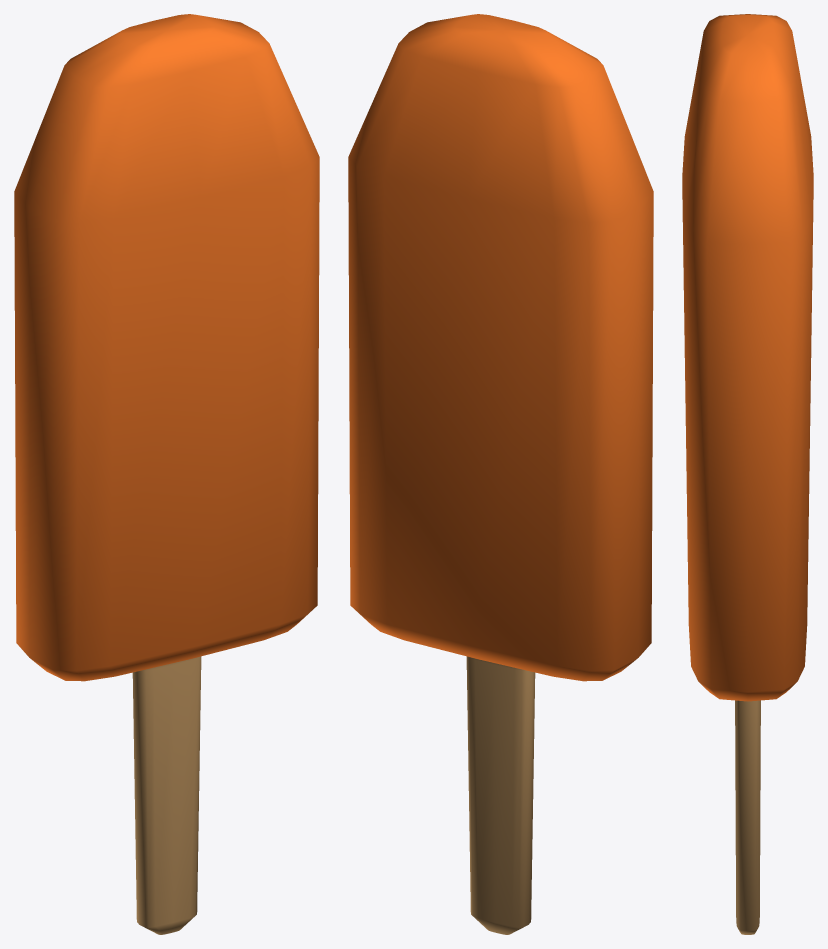
The model's file is NEW_RECOVERY_015_LOD2.glb.
3 renders of one model, left to right at view 1: azimuth 30°, elevation 25°; view 2: azimuth 150°, elevation 25°; view 3: azimuth 270°, elevation 25°, orthographic.
Visible parts, largest first — view 1: Popsicle; view 2: Popsicle; view 3: Popsicle.
Part boxes in pixels (x1=…): Popsicle: x1=14, y1=14, x2=319, y2=934; Popsicle: x1=348, y1=14, x2=653, y2=934; Popsicle: x1=682, y1=14, x2=813, y2=934.
Size of the model in its own units: 0.048 by 0.15 by 0.02.
